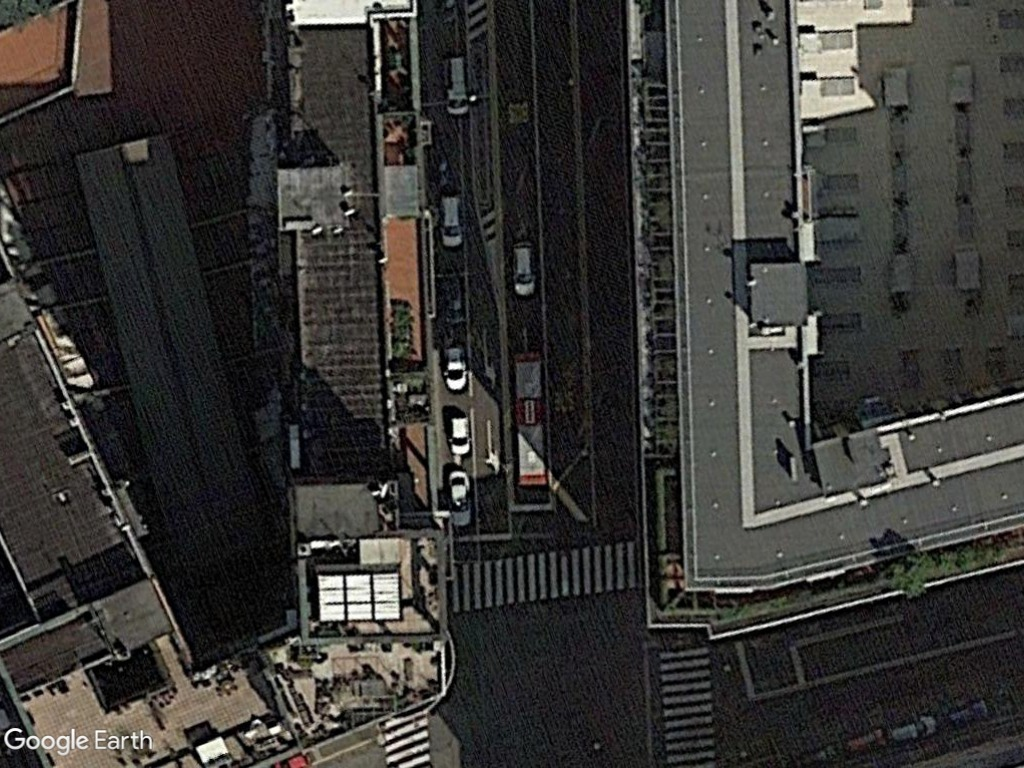bus: (506, 346, 555, 490)
car: (505, 237, 539, 301), (442, 468, 476, 530), (436, 189, 466, 251), (440, 340, 471, 396), (444, 413, 474, 459)
van: (436, 52, 476, 121)
